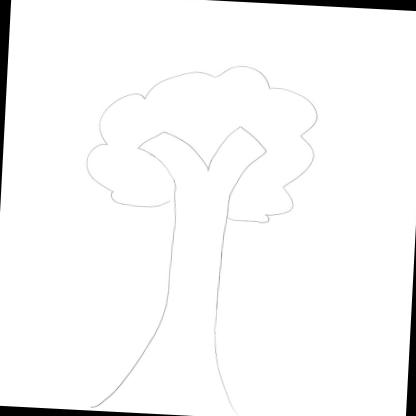branch_cut: (130, 116, 273, 191)
crown_cloud: (80, 54, 322, 227)
trunk_straight: (156, 233, 235, 336)
